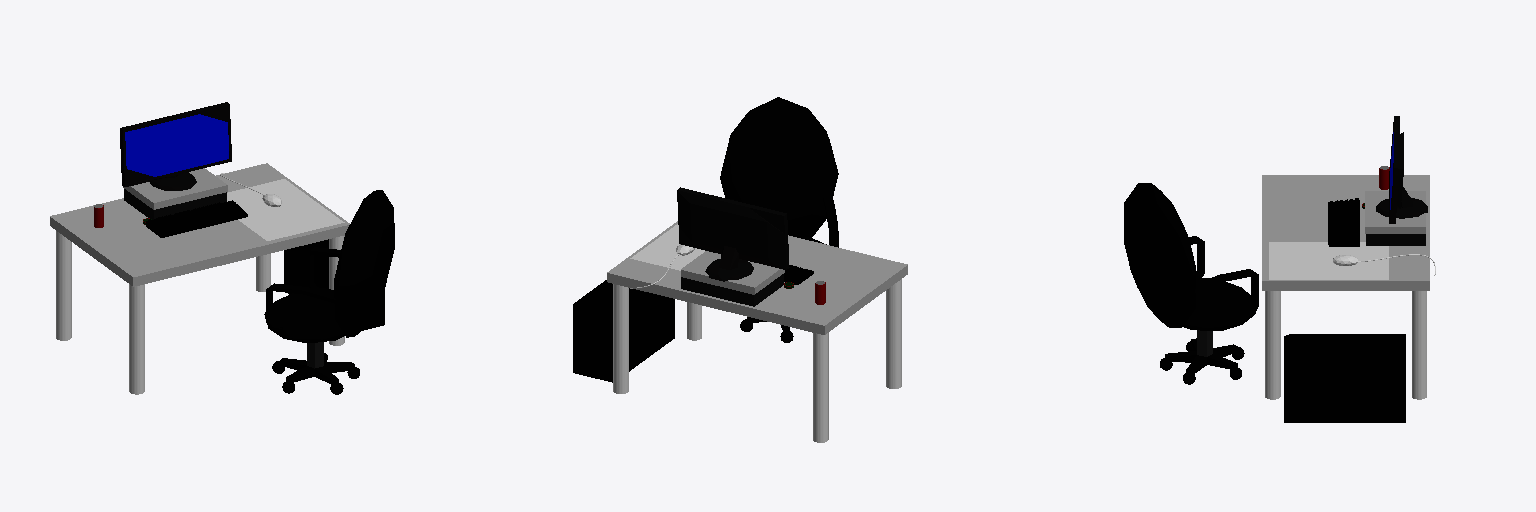
File: myRoom.obj
The picture shows the model from 3 angles: view 1: azimuth 30°, elevation 25°; view 2: azimuth 150°, elevation 25°; view 3: azimuth 270°, elevation 25°; orthographic projection.
Parts seen in each view (by area): view 1: Cube, Screen, Icosphere.003, Icosphere, Mousemat, Shoebox, PC, Cylinder, Cylinder.003, Cube.002, Keyboard, Cylinder.002; view 2: Icosphere.003, Cube, Screen, PC, Shoebox, Cylinder.003, Cylinder.002, Cylinder, Mousemat, Cylinder.001; view 3: PC, Cube, Icosphere.003, Mousemat, Icosphere, Shoebox, Screen, Cylinder.001, Cylinder.002, Cube.003, Keyboard, Icosphere.002.
Boxes of the visible parts, box(x1,y1,x2,y2) form: Cube: box(50, 163, 349, 286); Screen: box(120, 102, 231, 190); Icosphere.003: box(334, 190, 394, 337); Icosphere: box(264, 288, 354, 384); Mousemat: box(227, 179, 344, 240); Shoebox: box(123, 168, 227, 219); PC: box(284, 239, 384, 330); Cylinder: box(129, 284, 144, 394); Cylinder.003: box(56, 231, 71, 340); Cube.002: box(266, 283, 335, 331); Keyboard: box(146, 200, 247, 237); Cylinder.002: box(256, 254, 270, 291); Icosphere.003: box(720, 97, 838, 237); Cube: box(607, 221, 907, 334); Screen: box(677, 187, 789, 281); PC: box(573, 280, 674, 382); Shoebox: box(681, 251, 784, 306); Cylinder.003: box(813, 333, 828, 442); Cylinder.002: box(613, 284, 628, 393); Cylinder: box(886, 279, 901, 388); Mousemat: box(630, 224, 704, 270); Cylinder.001: box(687, 302, 701, 340); PC: box(1284, 334, 1405, 422); Cube: box(1262, 175, 1429, 290); Icosphere.003: box(1124, 183, 1195, 327); Mousemat: box(1269, 242, 1388, 279); Icosphere: box(1165, 278, 1255, 373); Shoebox: box(1365, 191, 1425, 245); Screen: box(1376, 116, 1427, 223); Cylinder.001: box(1265, 291, 1280, 399); Cylinder.002: box(1412, 291, 1426, 399); Cube.003: box(1195, 269, 1258, 316); Keyboard: box(1328, 200, 1359, 246); Icosphere.002: box(1160, 341, 1244, 384).
Size of the model in its own units: 2.9 by 2.17 by 2.98.